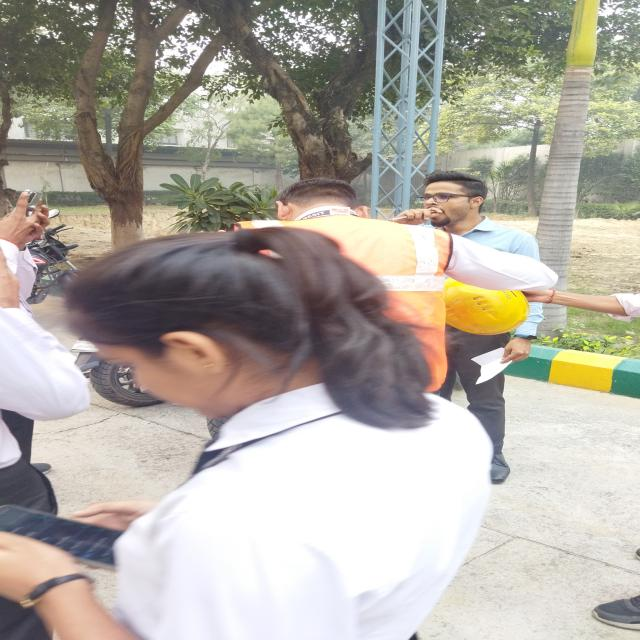unsafe: (393, 172, 551, 488)
